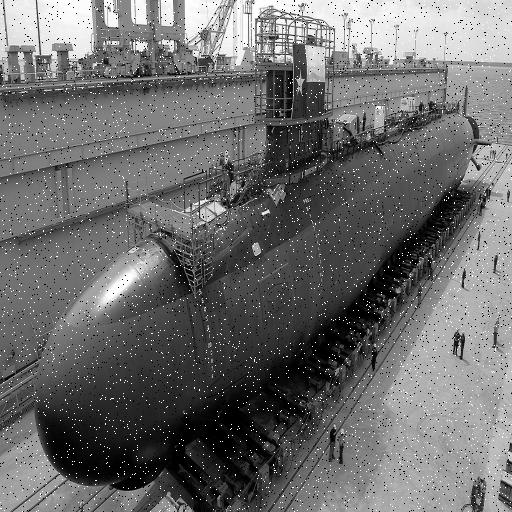submarine: (31, 12, 497, 492)
